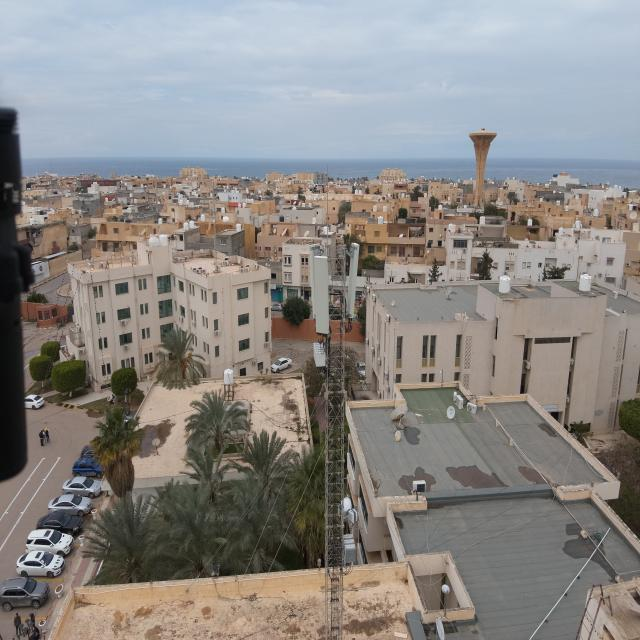antenna: (313, 255, 331, 337), (346, 240, 360, 320), (309, 244, 323, 318)
lighnig-rad: (326, 162, 329, 249)
microware-dish: (338, 495, 359, 523)
power-box: (340, 532, 358, 564)
radio-unit: (313, 342, 328, 367)
